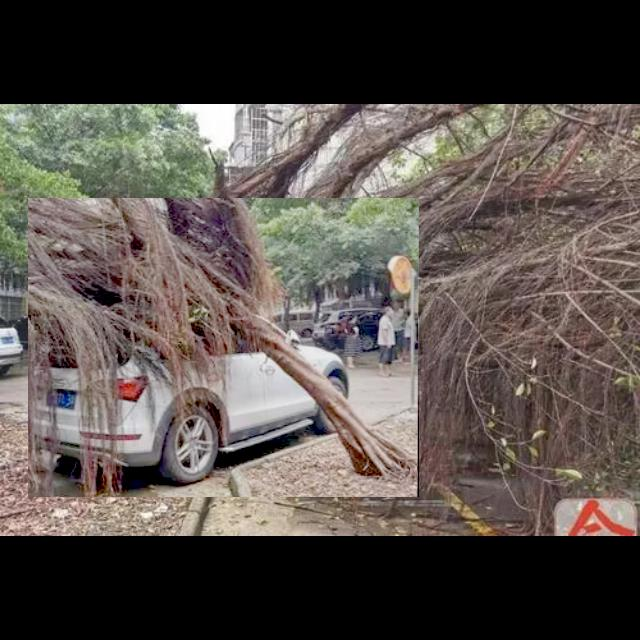Fallen Tree: (28, 198, 420, 498)
